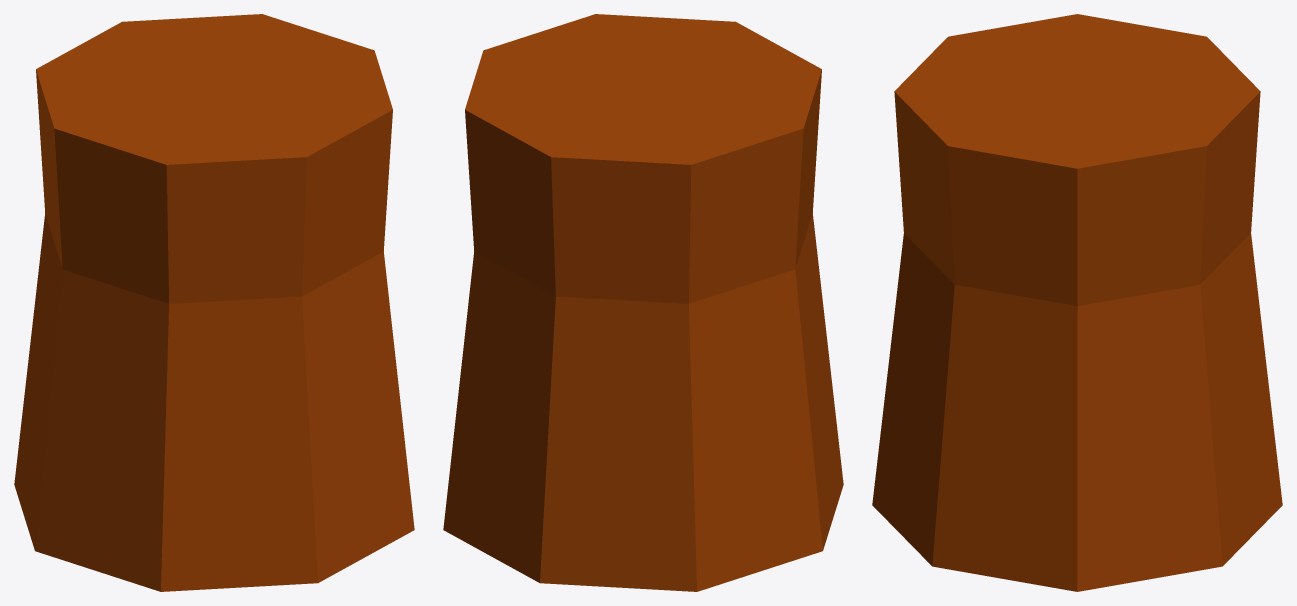
Rendered from pinetree_3.fbx.
3 renders of one model, left to right at view 1: azimuth 30°, elevation 25°; view 2: azimuth 150°, elevation 25°; view 3: azimuth 270°, elevation 25°, orthographic.
Visible parts, largest first — view 1: Cylinder; view 2: Cylinder; view 3: Cylinder.
Boxes of the visible parts, bbox=[...] form: Cylinder: bbox=[14, 14, 414, 591]; Cylinder: bbox=[443, 14, 843, 591]; Cylinder: bbox=[872, 14, 1282, 591].
Bounding box in the file's own units: 100 × 111 × 100.
